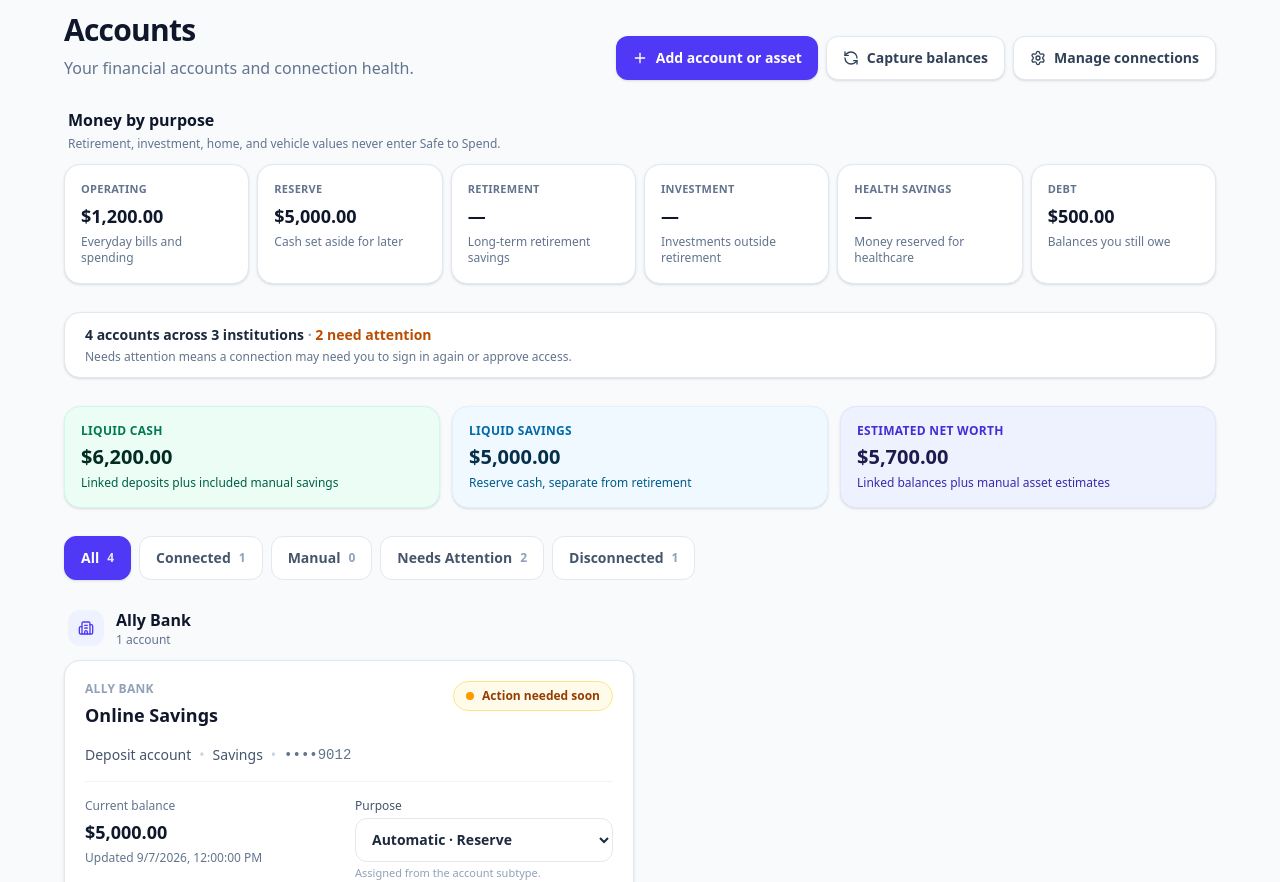
Test case: AccountsPage › captures balance history from the Accounts page
Click the button "Capture balances" at (915, 58), box [826, 36, 1005, 80]
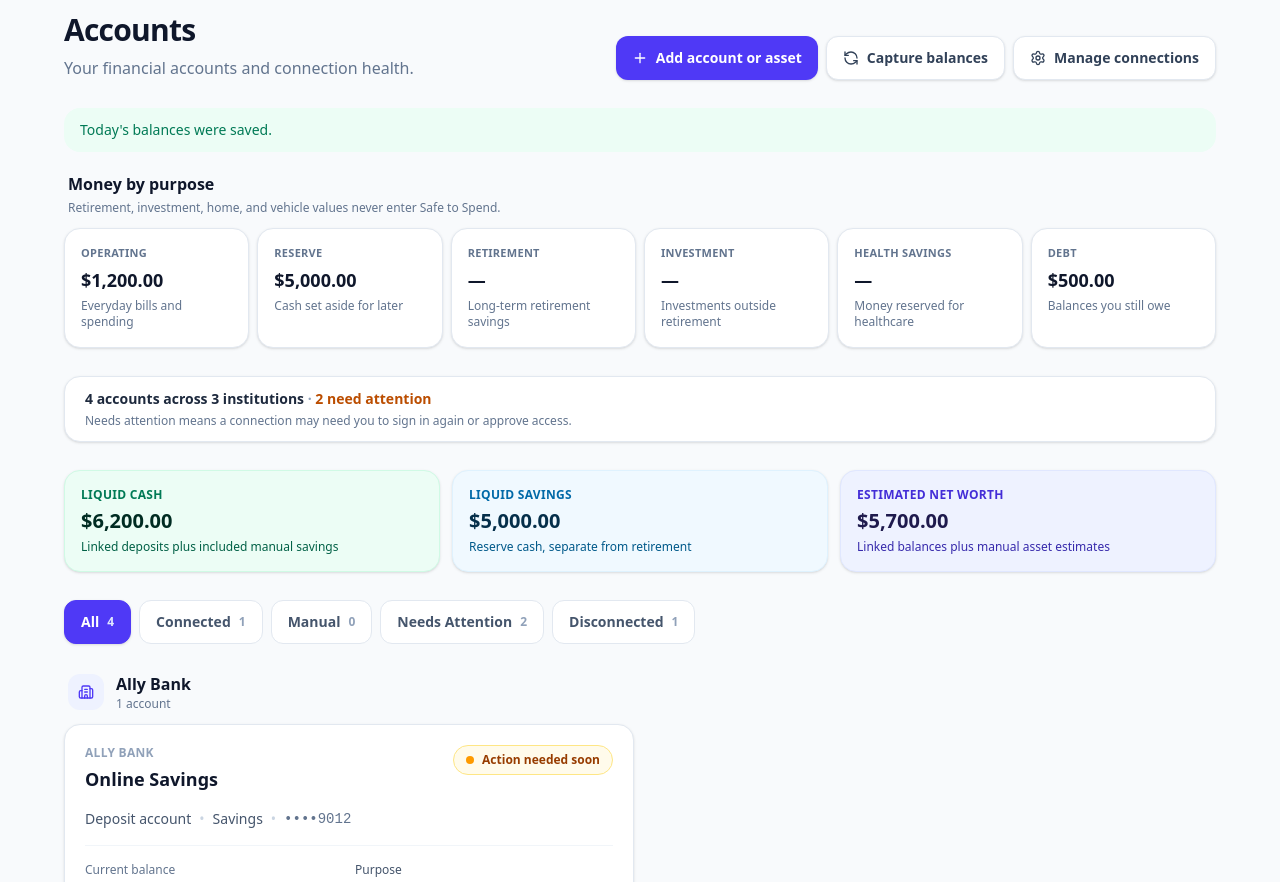
Result: the text "Today's balances were saved." is shown at [64, 108, 1216, 152]
